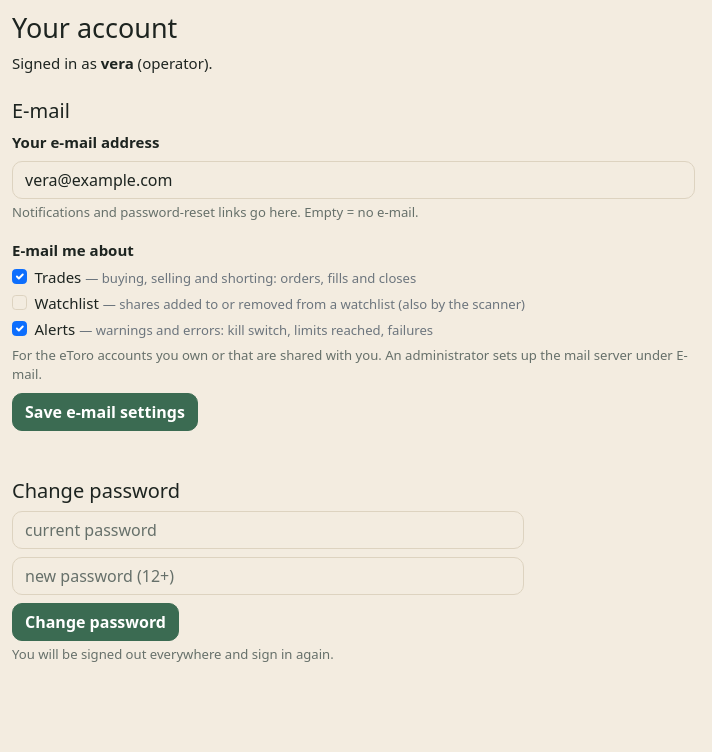
Test case: Account e-mail (PLAN 7.1.11) › shows the server's refusal as a problem alert
Replace the text in the field labelled "Your e-mail address" with "new@example.com" at (353, 180), box [12,161,695,199]
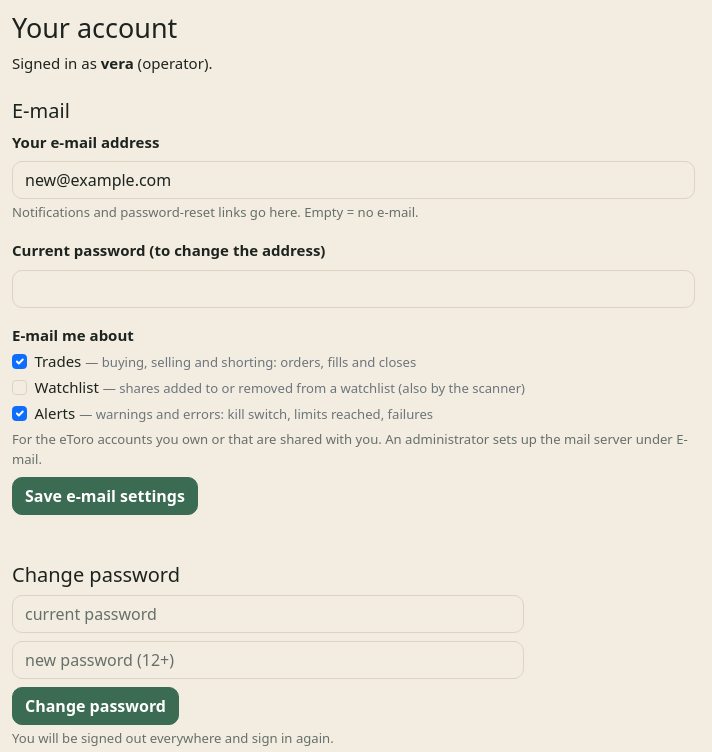
Type "wrong" into the password field labelled "Current password (to change the address)".
click(353, 288); type("wrong")  # box [12,270,695,308]
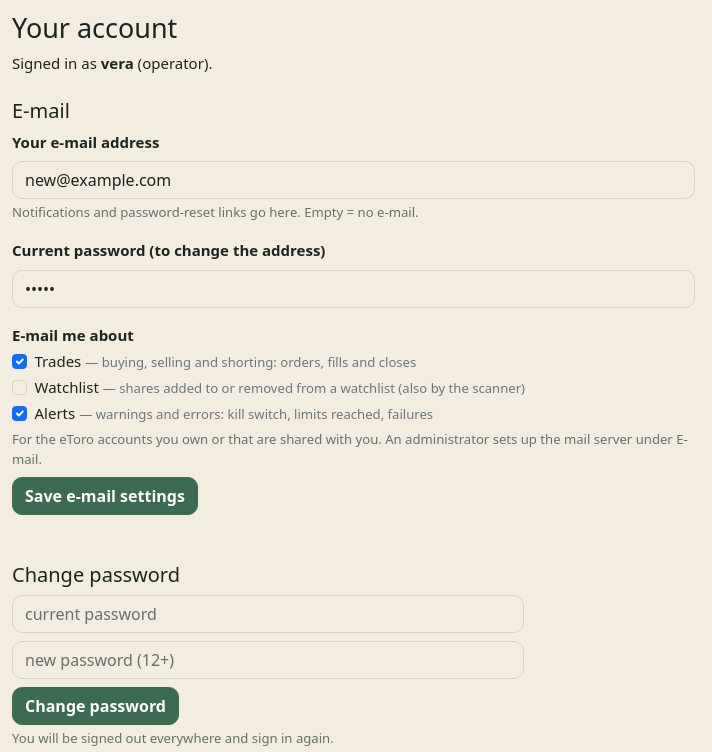
Click the button "Save e-mail settings".
click(105, 496)  # box [12,477,198,515]
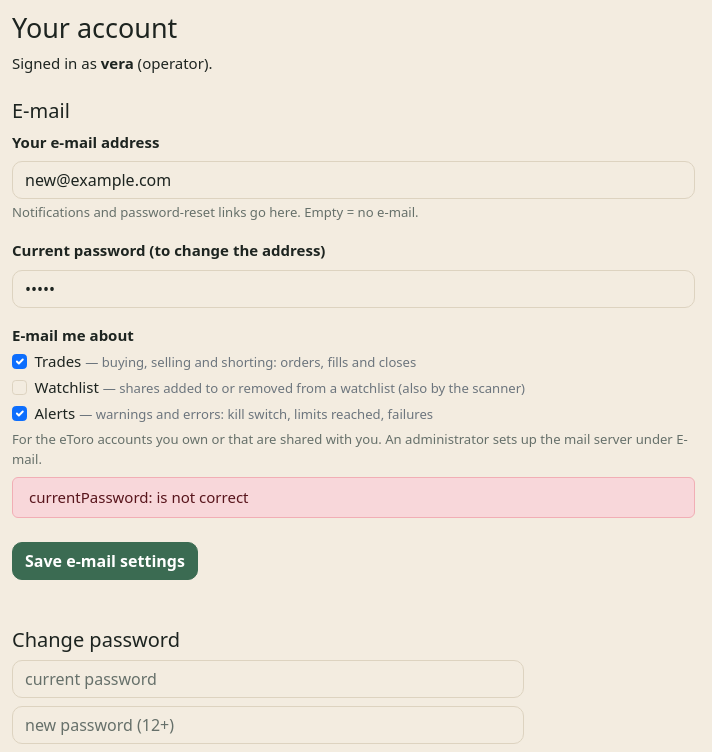
Now the message shows "is not correct", box [29,487,248,507]
